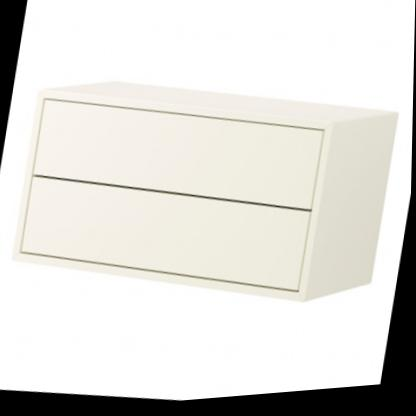Cabinet: (2, 45, 410, 340)
